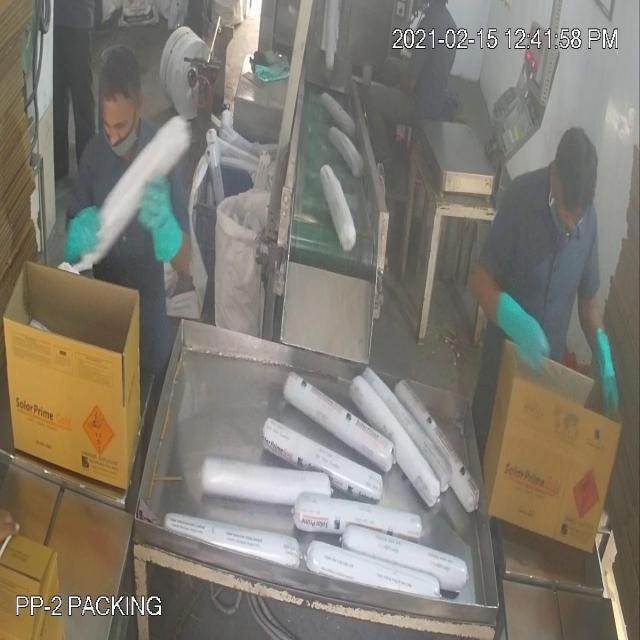Gloves: (29, 90, 606, 373)
